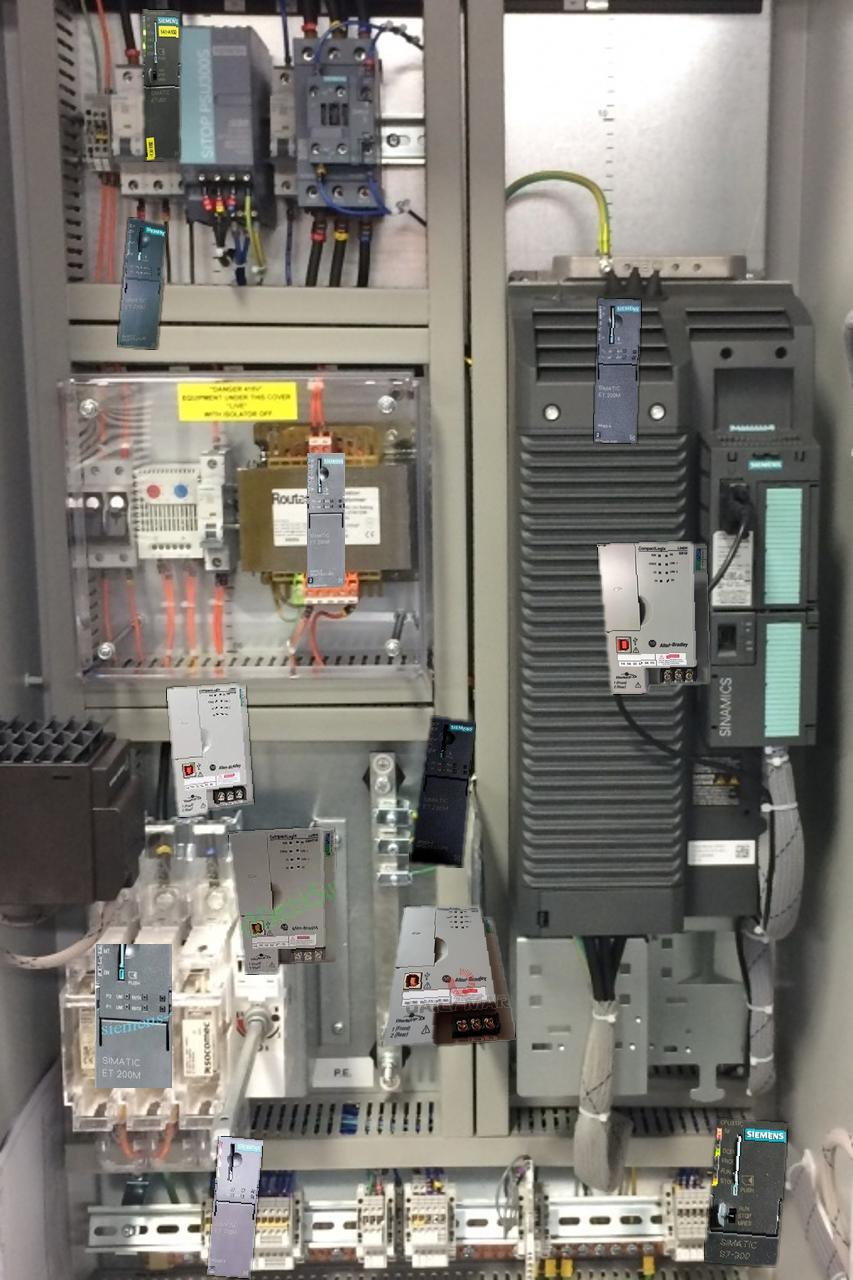AllenBradley: (383, 905, 515, 1045), (597, 542, 708, 694), (228, 828, 335, 973), (167, 684, 253, 816)
Siemens: (704, 1119, 787, 1265), (141, 9, 180, 160)
